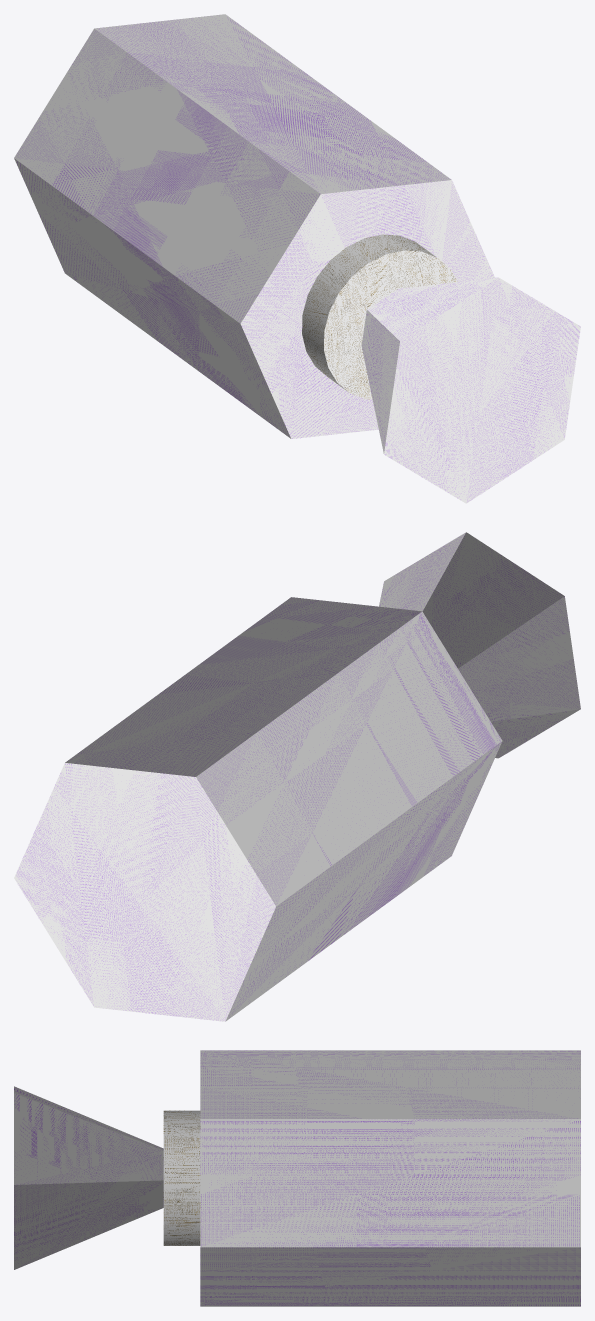
Rendered from model_align.obj.
The picture shows the model from 3 angles, top to bottom: view 1: azimuth 30°, elevation 25°; view 2: azimuth 150°, elevation 25°; view 3: azimuth 270°, elevation 25°; orthographic projection. The views are drawn at different scales.
Visible parts, largest first — view 1: mesh2_mesh2-geometry, mesh1_mesh1-geometry; view 2: mesh2_mesh2-geometry, mesh1_mesh1-geometry; view 3: mesh2_mesh2-geometry, mesh1_mesh1-geometry.
Part boxes in pixels (x1,y1,x2,y2): mesh2_mesh2-geometry: (14,14,494,438); mesh1_mesh1-geometry: (302,234,580,503); mesh2_mesh2-geometry: (14,597,502,1021); mesh1_mesh1-geometry: (379,532,580,758); mesh2_mesh2-geometry: (200,1050,580,1306); mesh1_mesh1-geometry: (14,1086,200,1269).
Bounding box in the file's own units: 0.1006 × 0.0936 × 0.2242.
